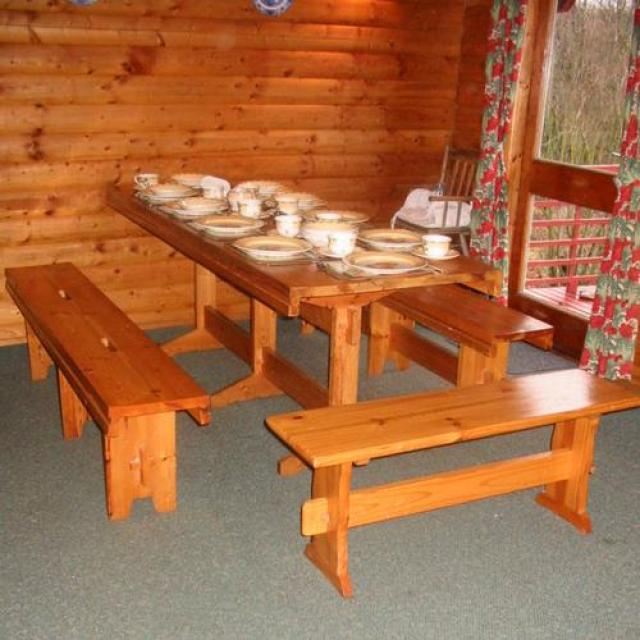table: (108, 173, 502, 410)
